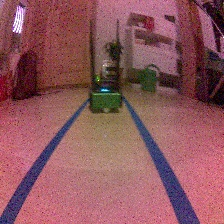rob: (89, 63, 122, 113)
